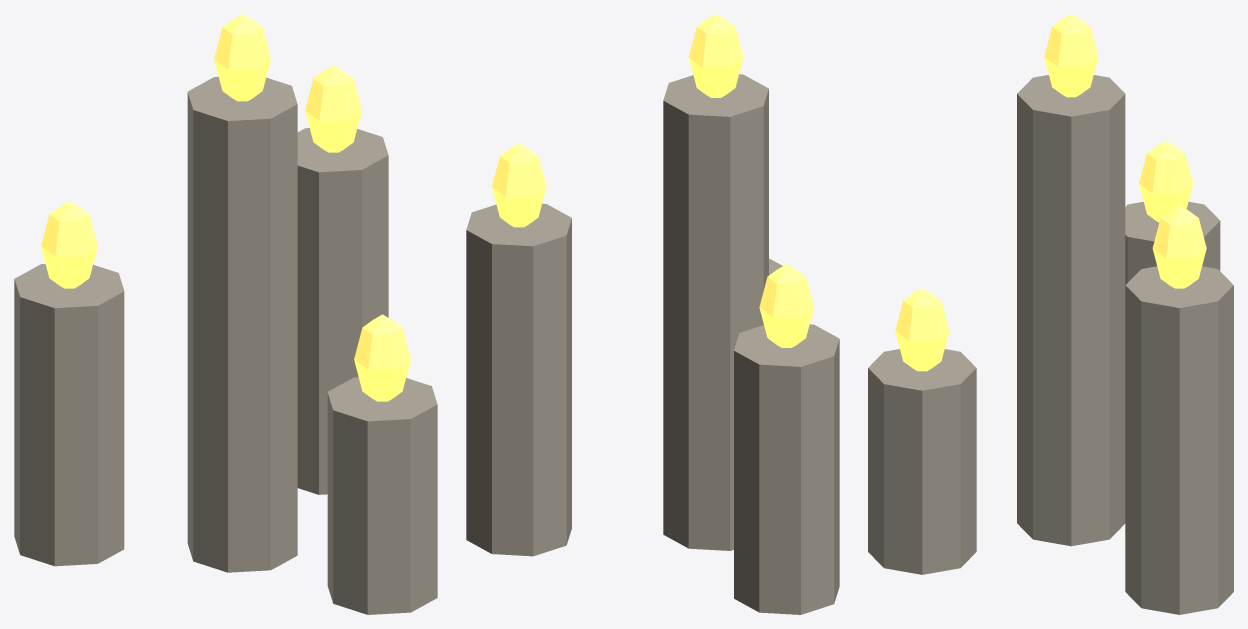
Rendered from candles.glb.
3 views of the same model, side by side, from view 1: azimuth 30°, elevation 25°; view 2: azimuth 150°, elevation 25°; view 3: azimuth 270°, elevation 25° (orthographic). The views are drawn at different scales.
Visible parts, largest first — view 1: candles; view 2: candles; view 3: candles.
Boxes of the visible parts, x1,y1,x2,y2 form: candles: [14, 14, 437, 614]; candles: [466, 14, 839, 614]; candles: [868, 14, 1233, 614].
Size of the model in its own units: 0.3 by 0.415 by 0.27.
